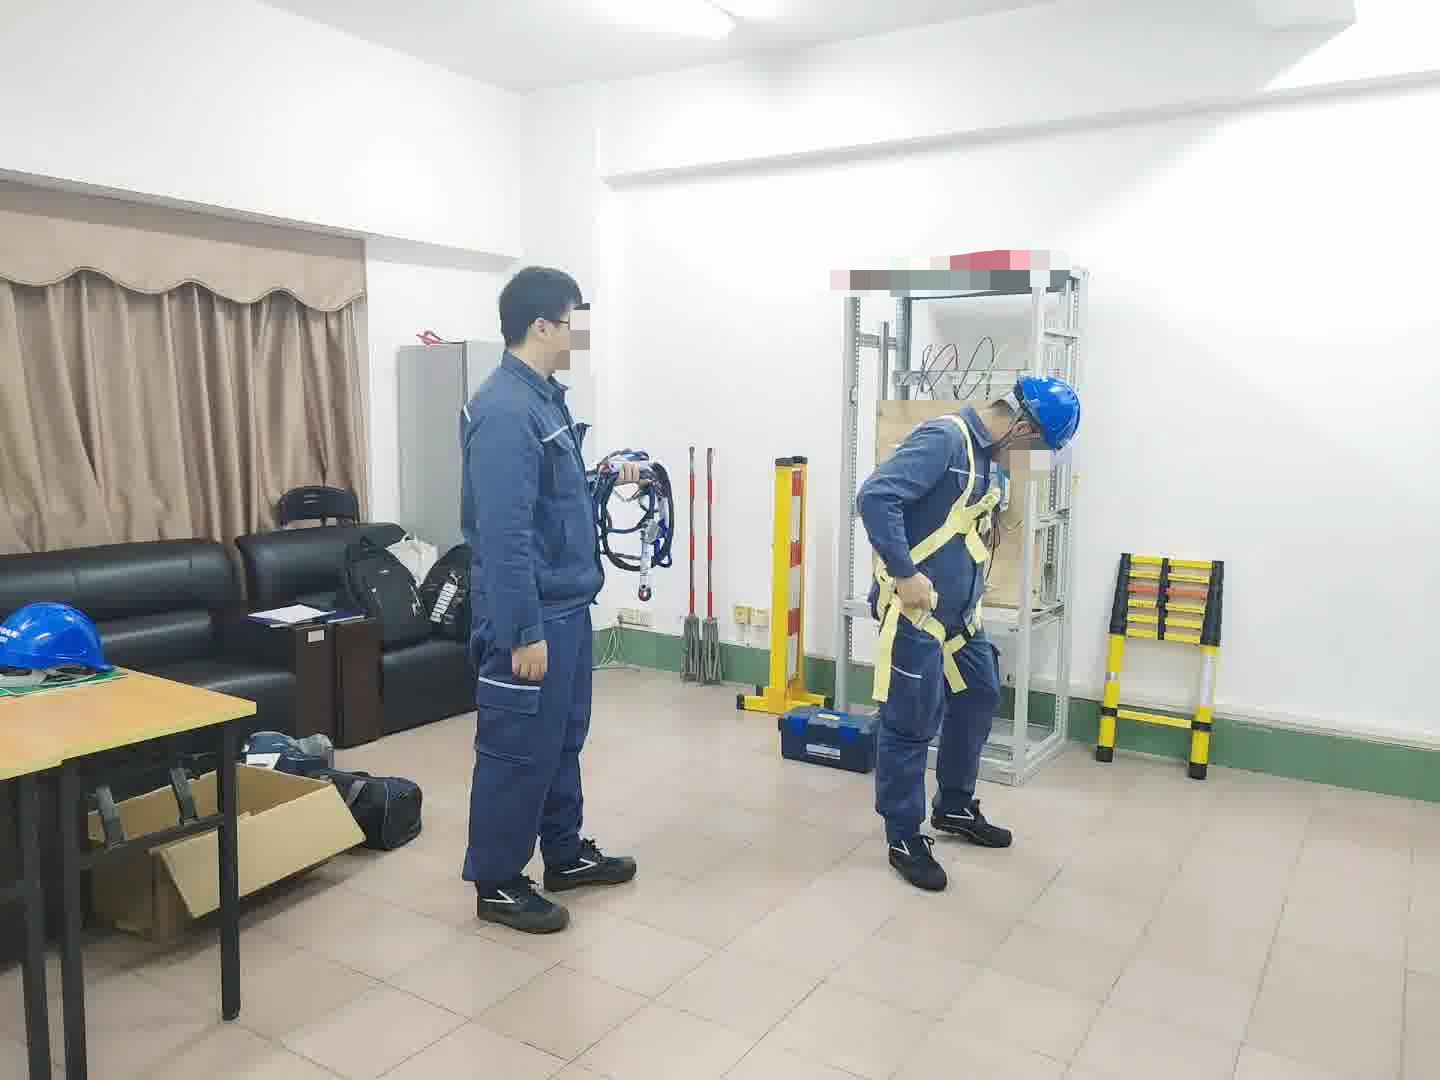halt: (1001, 376, 1085, 470)
inear: (996, 415, 1047, 459)
noear: (527, 315, 565, 355)
unhalt: (498, 267, 595, 376)
